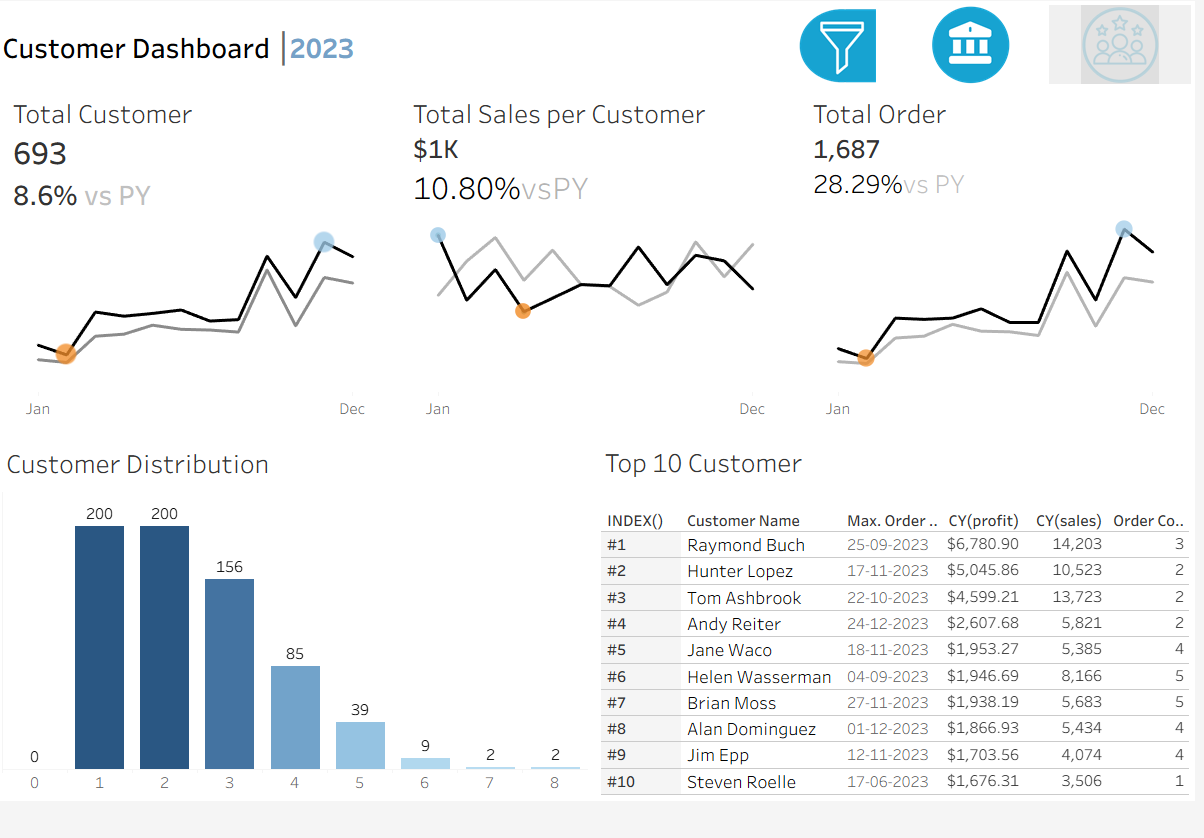

Layout of this report page (visuals, bound fields, positions):
{"tool":"tableau","page":{"name":"Customer Dahsboard","canvas":[1200,800],"ordinal":0},"visuals":[{"type":"text","box":[0,0,900,87]},{"type":"dashboard-object","box":[900,0,150,87]},{"type":"dashboard-object","box":[1050,0,150,87]},{"type":"dashboard-object","box":[799,6,86,78]},{"type":"blank","box":[967,7,228,72]},{"type":"parameter","param":"[Parameters].[Parameter 1]","box":[967,79,228,42.6]},{"type":"worksheet","title":"Kpi Total customer","mark":"Line","rows":["Calculation_2044881703510053"],"cols":["Order Date"],"box":[0,87,400,347]},{"type":"worksheet","title":"KPI sales per customer","mark":"Line","rows":["Calculation_2044881704869926"],"cols":["Order Date"],"box":[400,87,400,347]},{"type":"worksheet","title":"Total Orders","mark":"Automatic","rows":["Calculation_2044882295324727"],"cols":["Order Date"],"box":[800,87,400,347]},{"type":"blank","box":[967,121.6,228,78]},{"type":"text","box":[967,199.6,228,40]},{"type":"filter","title":"Kpi Total customer","param":"[federated.1byzq540m0jxd910fztev05yb3q6].[none:Category:nk]","box":[967,239.6,228,42.6]},{"type":"filter","title":"Kpi Total customer","param":"[federated.1byzq540m0jxd910fztev05yb3q6].[none:Sub-Category:nk]","box":[967,282.3,228,42.6]},{"type":"blank","box":[967,324.9,228,94]},{"type":"text","box":[967,418.9,228,40]},{"type":"worksheet","title":"Customer Distribution","mark":"Automatic","rows":["Calculation_2044881609109536"],"cols":["Calculation_2044882324893755"],"box":[0,434,600,366]},{"type":"worksheet","title":"Top 10 Customer","mark":"Automatic","rows":["Calculation_2044882330579005","Customer Name","Order Date"],"box":[600,434,600,366]},{"type":"filter","title":"Kpi Total customer","param":"[federated.1byzq540m0jxd910fztev05yb3q6].[none:State:nk]","box":[967,458.9,228,42.6]},{"type":"filter","title":"Kpi Total customer","param":"[federated.1byzq540m0jxd910fztev05yb3q6].[none:Region:nk]","box":[967,501.5,228,42.6]},{"type":"filter","title":"Kpi Total customer","param":"[federated.1byzq540m0jxd910fztev05yb3q6].[none:City:nk]","box":[967,544.2,228,42.6]},{"type":"legend","title":"Kpi Total customer","param":"[federated.1byzq540m0jxd910fztev05yb3q6].[:Measure Names]","box":[967,586.8,228,42.6]},{"type":"legend","title":"Kpi Total customer","param":"[federated.1byzq540m0jxd910fztev05yb3q6].[usr:Calculation_2044881703510053:qk]","box":[967,629.4,228,42.6]},{"type":"legend","title":"KPI sales per customer","param":"[federated.1byzq540m0jxd910fztev05yb3q6].[usr:Calculation_2044881704869926:qk]","box":[967,672.1,228,42.6]},{"type":"legend","title":"Total Orders","param":"[federated.1byzq540m0jxd910fztev05yb3q6].[usr:Calculation_2044882295324727:qk]","box":[967,714.7,228,42.6]},{"type":"legend","title":"Customer Distribution","param":"[federated.1byzq540m0jxd910fztev05yb3q6].[ctd:Calculation_2044881609109536:qk]","box":[967,757.3,228,42.7]}]}

Visuals, with their boxes on the page's 1200x800 design canvas (x1, y1, x2, y2). These are canvas units, not pixel positions in the 1204x838 screenshot, which may show the page scaled, cropped or inside an application window:
text: x1=0 y1=0 x2=900 y2=87
dashboard-object: x1=900 y1=0 x2=1050 y2=87
dashboard-object: x1=1050 y1=0 x2=1200 y2=87
dashboard-object: x1=799 y1=6 x2=885 y2=84
blank: x1=967 y1=7 x2=1195 y2=79
parameter: x1=967 y1=79 x2=1195 y2=122
"Kpi Total customer" worksheet (Line marks): x1=0 y1=87 x2=400 y2=434
"KPI sales per customer" worksheet (Line marks): x1=400 y1=87 x2=800 y2=434
"Total Orders" worksheet: x1=800 y1=87 x2=1200 y2=434
blank: x1=967 y1=122 x2=1195 y2=200
text: x1=967 y1=200 x2=1195 y2=240
"Kpi Total customer" filter: x1=967 y1=240 x2=1195 y2=282
"Kpi Total customer" filter: x1=967 y1=282 x2=1195 y2=325
blank: x1=967 y1=325 x2=1195 y2=419
text: x1=967 y1=419 x2=1195 y2=459
"Customer Distribution" worksheet: x1=0 y1=434 x2=600 y2=800
"Top 10 Customer" worksheet: x1=600 y1=434 x2=1200 y2=800
"Kpi Total customer" filter: x1=967 y1=459 x2=1195 y2=502
"Kpi Total customer" filter: x1=967 y1=502 x2=1195 y2=544
"Kpi Total customer" filter: x1=967 y1=544 x2=1195 y2=587
"Kpi Total customer" legend: x1=967 y1=587 x2=1195 y2=629
"Kpi Total customer" legend: x1=967 y1=629 x2=1195 y2=672
"KPI sales per customer" legend: x1=967 y1=672 x2=1195 y2=715
"Total Orders" legend: x1=967 y1=715 x2=1195 y2=757
"Customer Distribution" legend: x1=967 y1=757 x2=1195 y2=800
